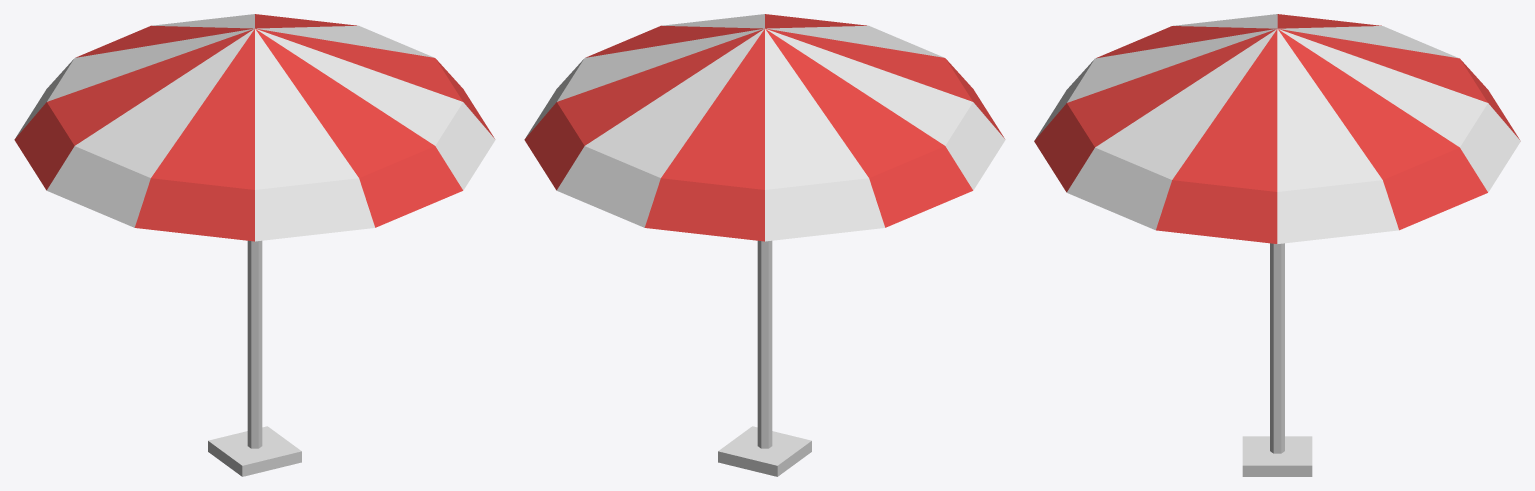
Rendered from zhuangshi_01.FBX.
The picture shows the model from 3 angles, left to right: view 1: azimuth 30°, elevation 25°; view 2: azimuth 150°, elevation 25°; view 3: azimuth 270°, elevation 25°; orthographic projection.
Visible parts, largest first — view 1: zhuangshi_01; view 2: zhuangshi_01; view 3: zhuangshi_01.
Boxes of the visible parts, x1=… form: zhuangshi_01: x1=14, y1=14, x2=495, y2=476; zhuangshi_01: x1=524, y1=14, x2=1005, y2=476; zhuangshi_01: x1=1034, y1=14, x2=1520, y2=476.
Bounding box in the file's own units: 522 × 513 × 522.
